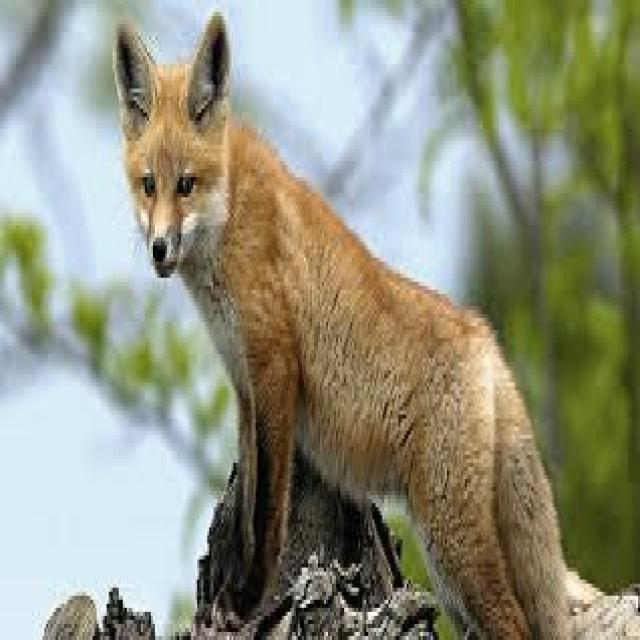fox: (115, 12, 572, 636)
